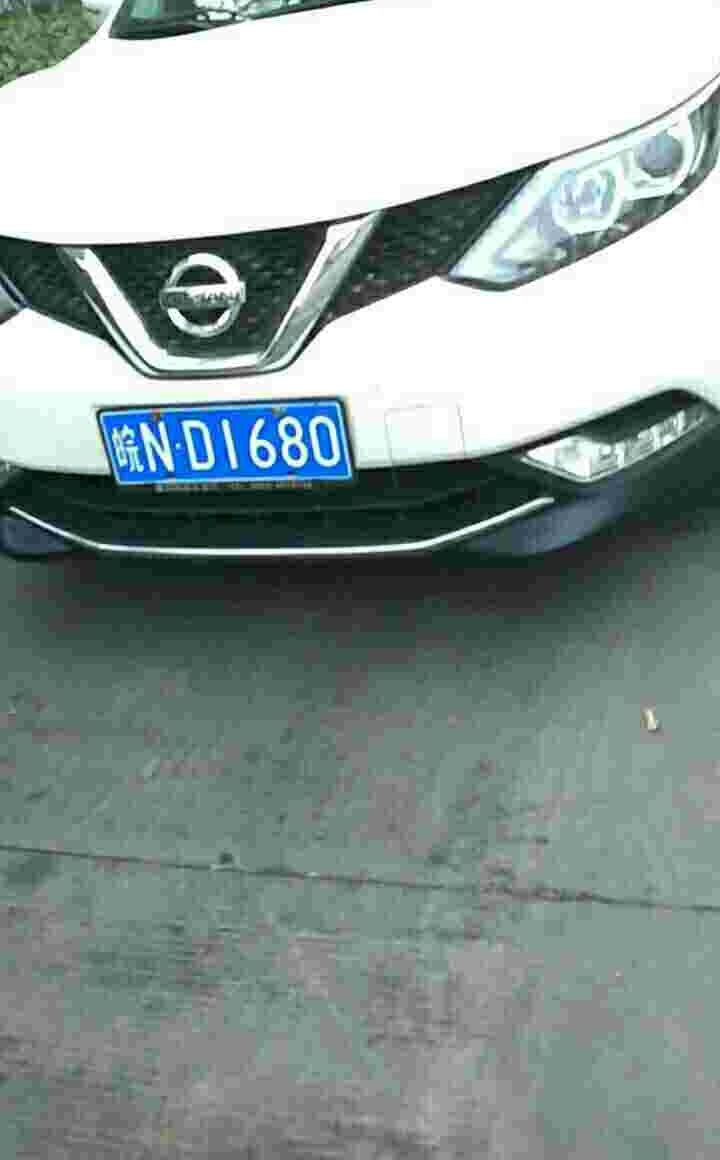license_plate: (88, 400, 341, 491)
